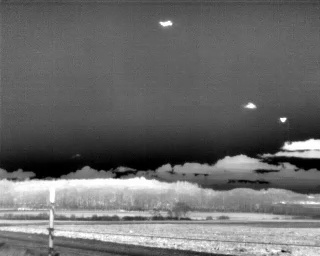DRONE: (156, 16, 177, 32)
